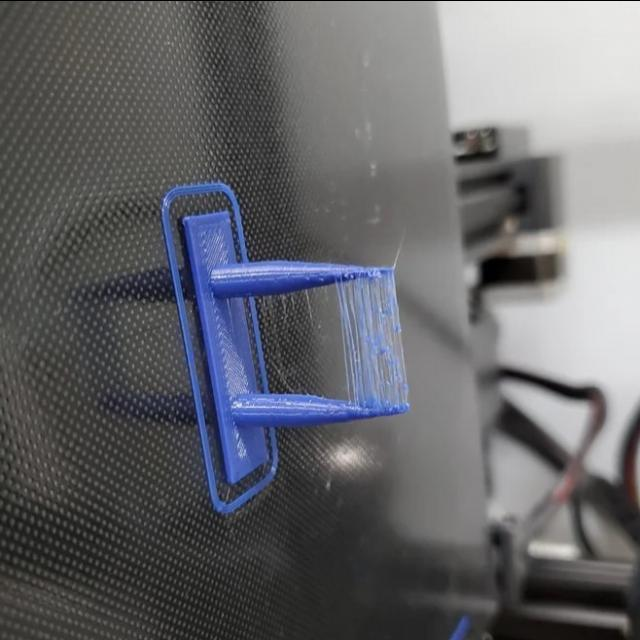stringing: (344, 286, 404, 398)
